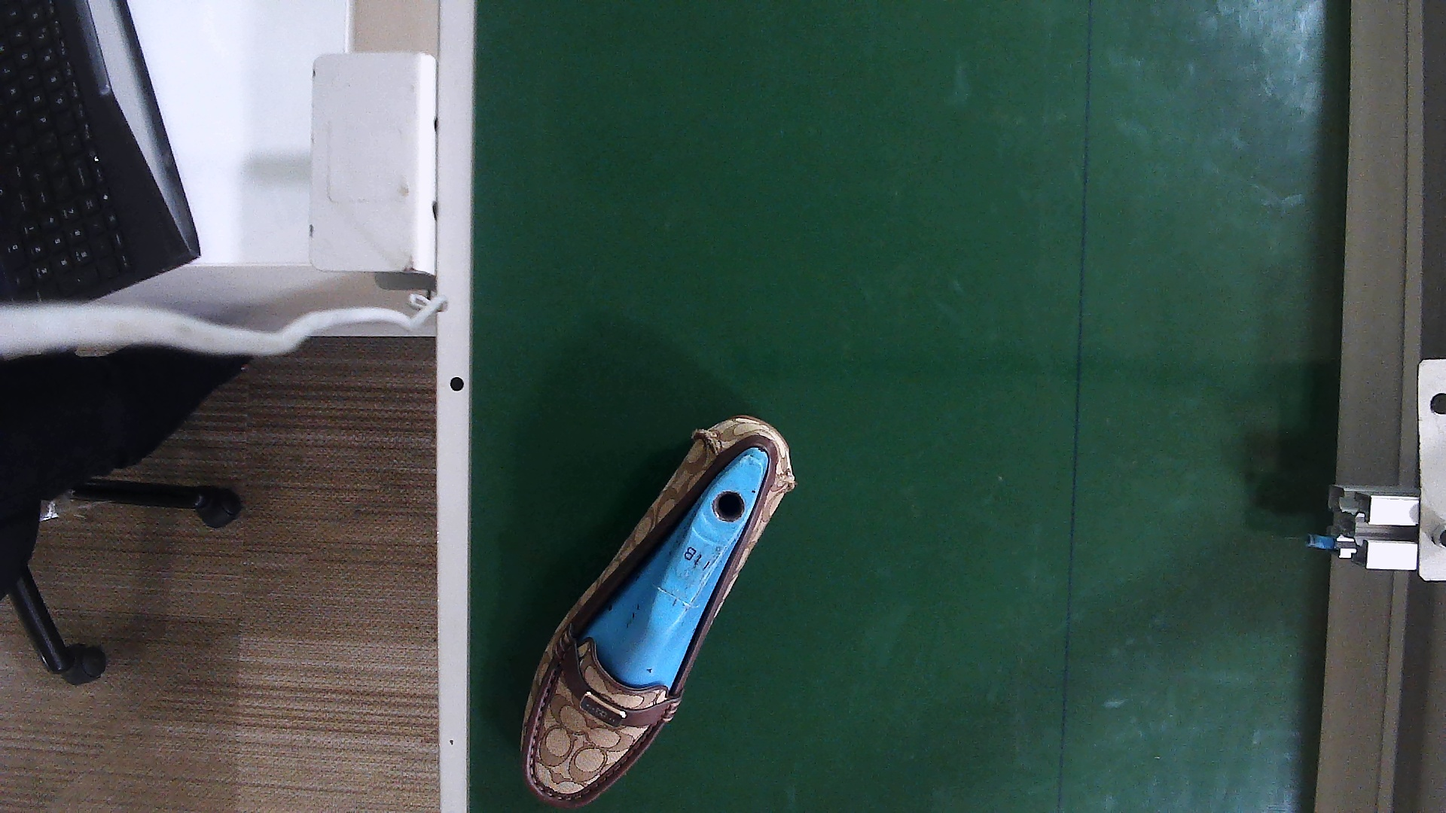shoe: (526, 419, 792, 804)
